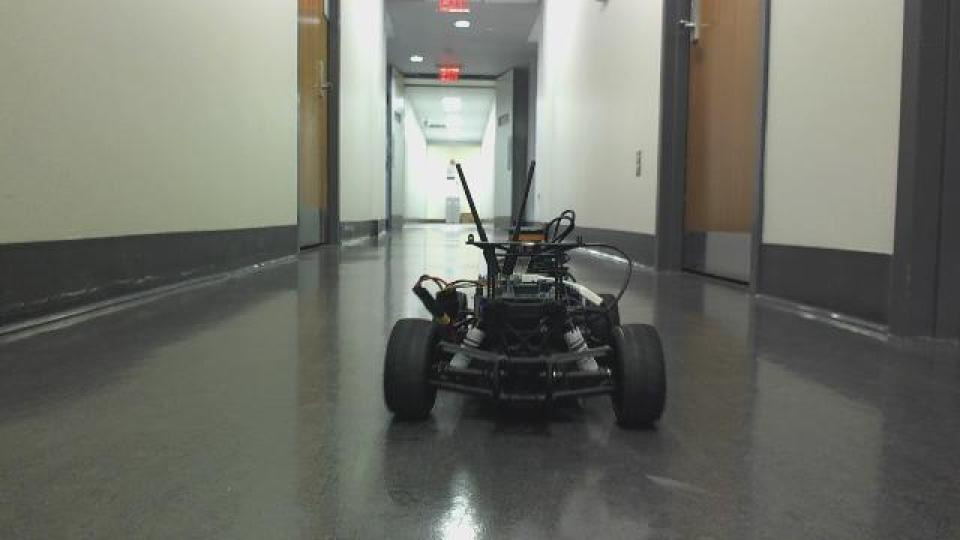car: (379, 157, 669, 430)
